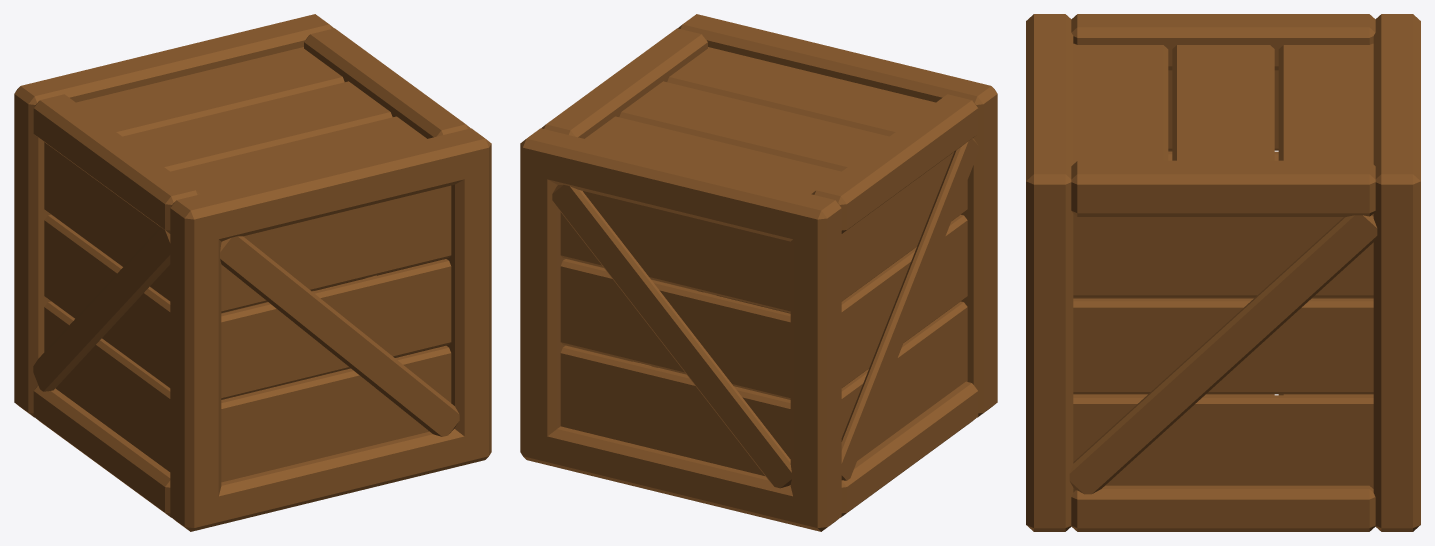
Rendered from SM_Crate_01.fbx.
The picture shows the model from 3 angles, left to right: view 1: azimuth 30°, elevation 25°; view 2: azimuth 150°, elevation 25°; view 3: azimuth 270°, elevation 25°; orthographic projection. The views are drawn at different scales.
Parts seen in each view (by area): view 1: SM_Crate_01; view 2: SM_Crate_01; view 3: SM_Crate_01.
Boxes of the visible parts, <box> form: SM_Crate_01: <box>14,14,491,531</box>; SM_Crate_01: <box>520,14,997,531</box>; SM_Crate_01: <box>1026,14,1420,531</box>.
Bounding box in the file's own units: 1 × 1 × 1.
